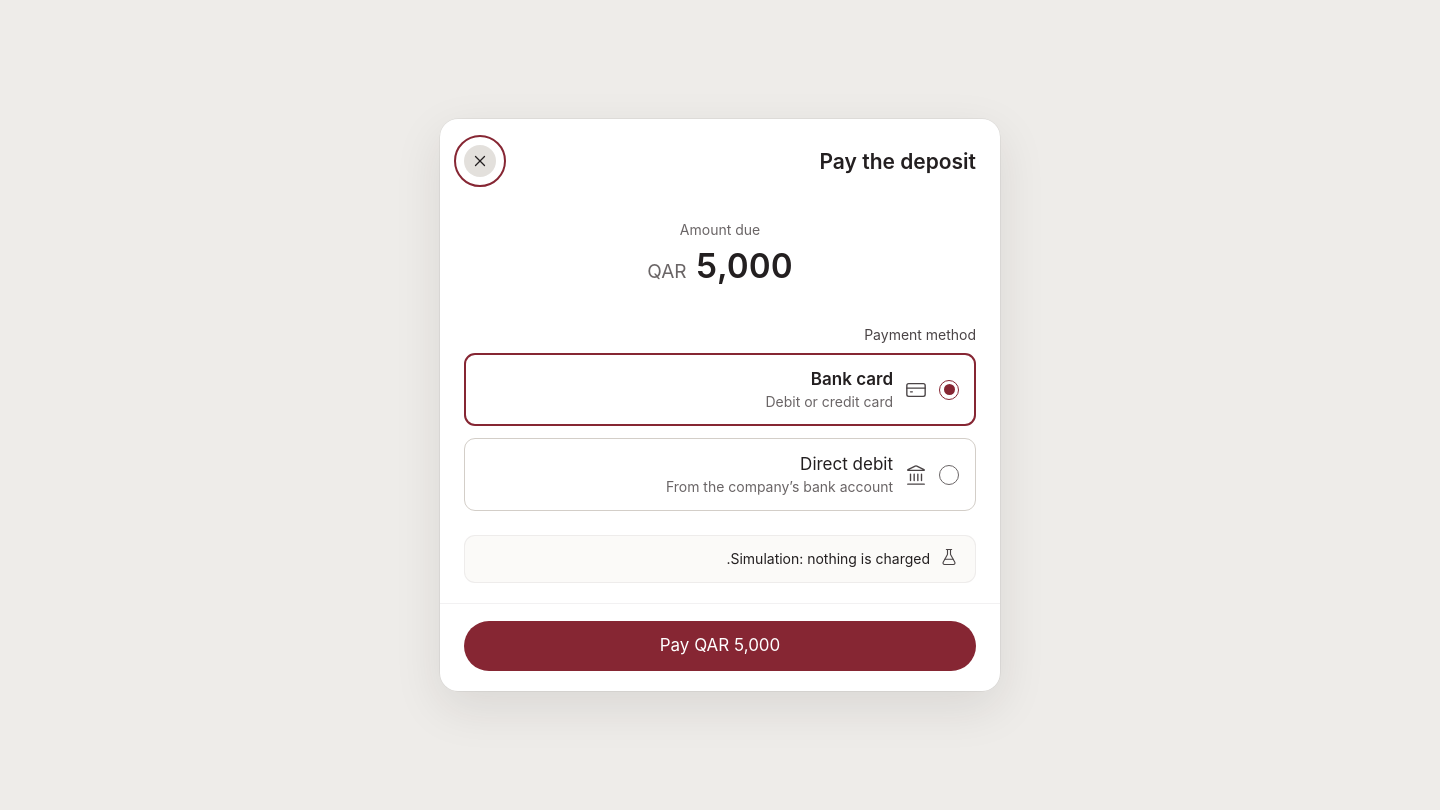
Scenario: round 2: shared APIs that replace local copies › files the payment through onPay and confirms the receipt it returns
Later steps or results of the test are not shown.
Step 1. Click the button "Pay QAR 5,000" → click(720, 646), box x1=464 y1=621 x2=976 y2=671
Wait 1250 ms
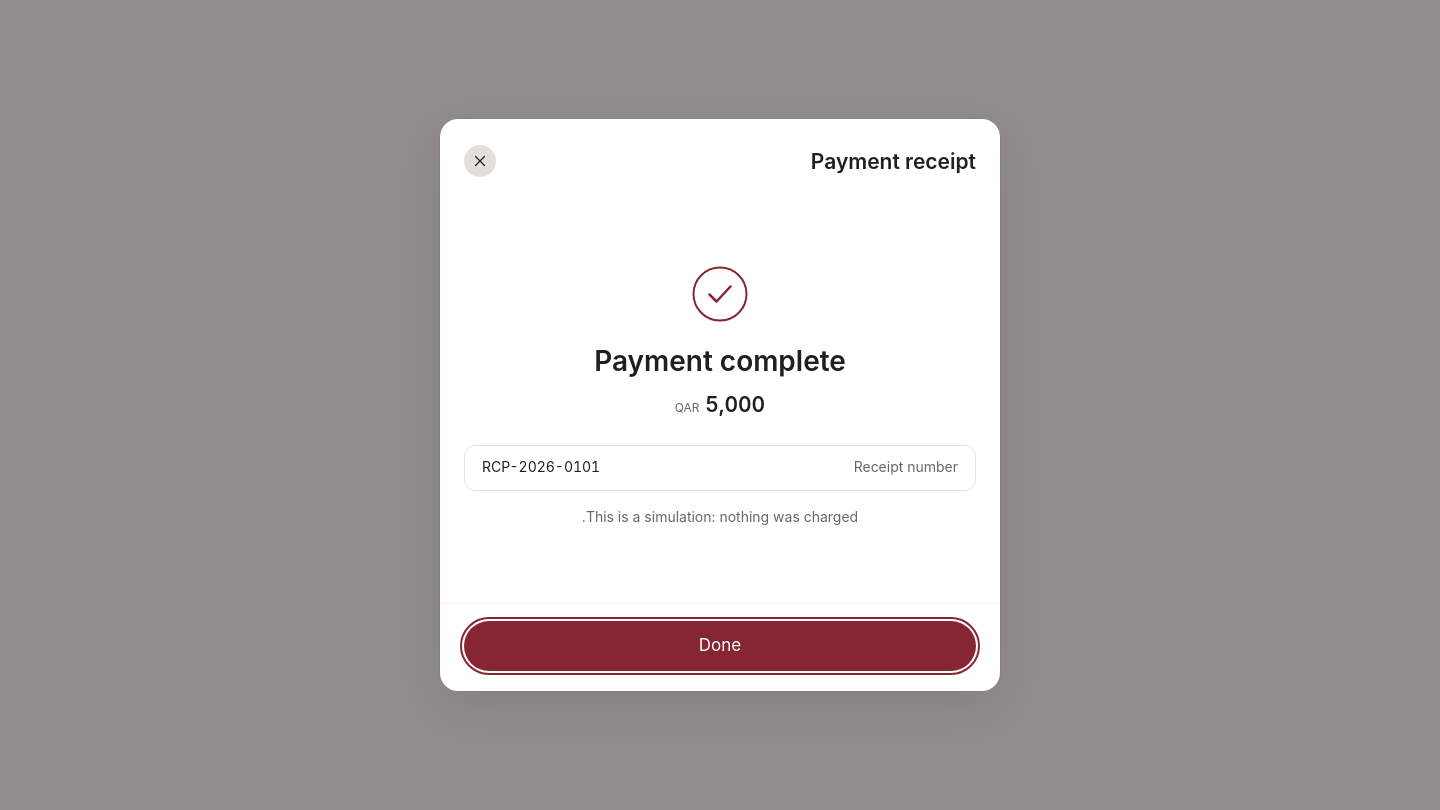
Expected: the text "RCP-2026-0101" is shown, x1=482 y1=458 x2=600 y2=475
